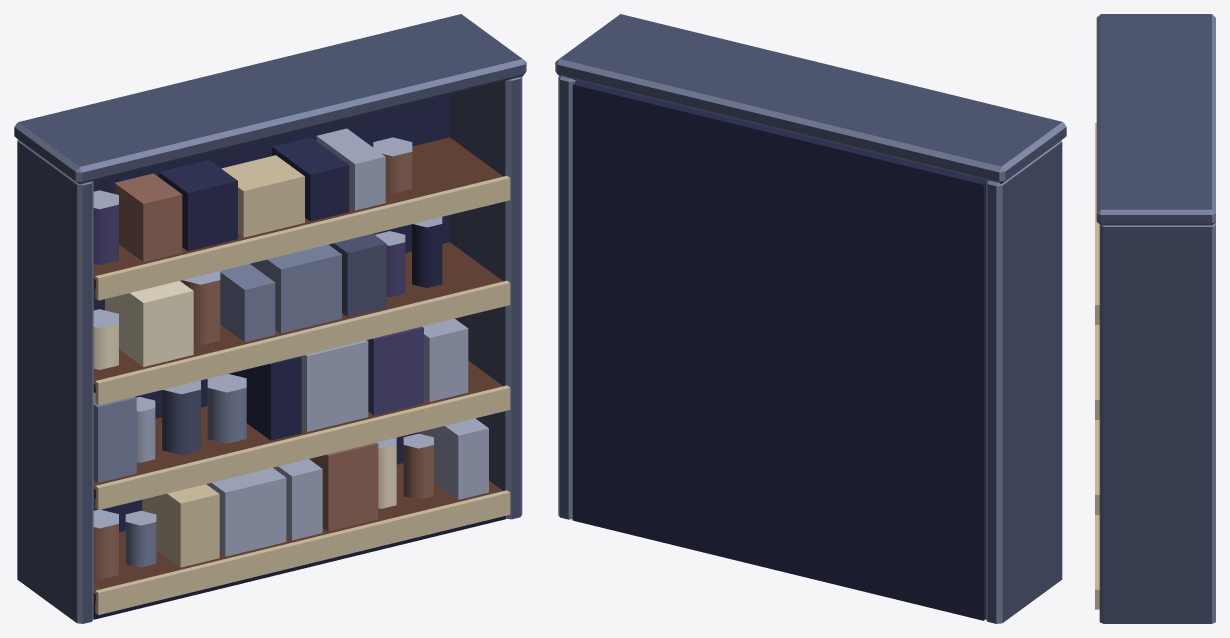
The model's file is Shelf_8x2.fbx.
3 views of the same model, side by side, from view 1: azimuth 30°, elevation 25°; view 2: azimuth 150°, elevation 25°; view 3: azimuth 270°, elevation 25° (orthographic). The views are drawn at different scales.
Parts seen in each view (by area): view 1: Shelf_8x2; view 2: Shelf_8x2; view 3: Shelf_8x2.
Part boxes in pixels (left/top/right/bottom): Shelf_8x2: left=14, top=14, right=526, bottom=623; Shelf_8x2: left=555, top=14, right=1066, bottom=623; Shelf_8x2: left=1095, top=14, right=1215, bottom=623.
Bounding box in the file's own units: 8.1 × 7.85 × 2.08.
1 material, 1 textured.
